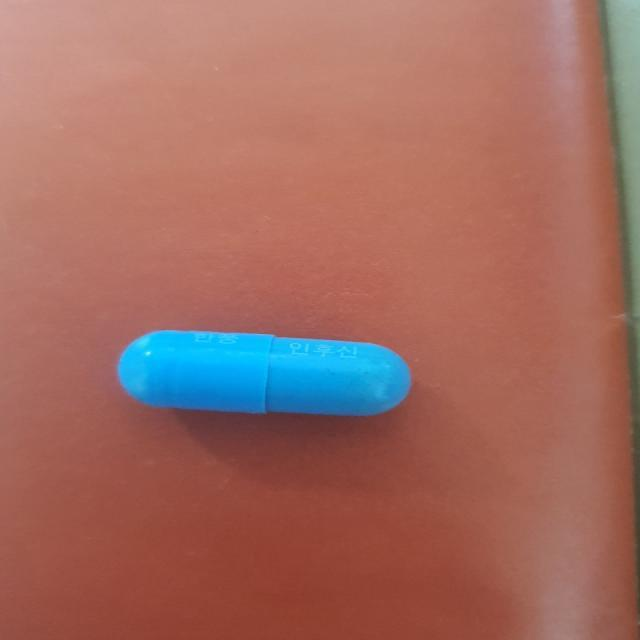pill: (115, 319, 420, 437)
